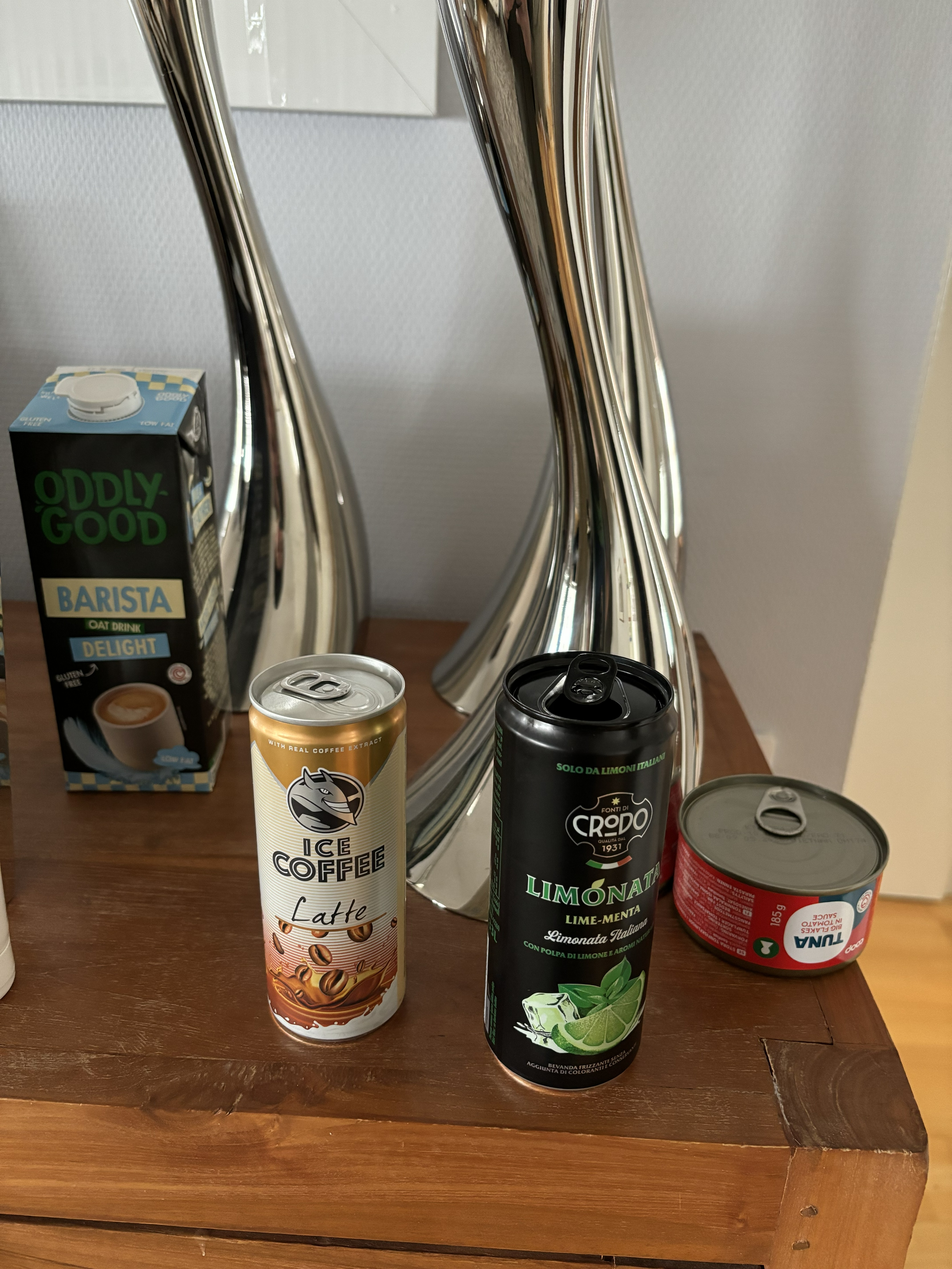Dryckeskartong: (0, 363, 208, 818)
Konservburk: (682, 778, 892, 980)
Pantburk: (478, 648, 680, 1095), (239, 650, 411, 1045)
